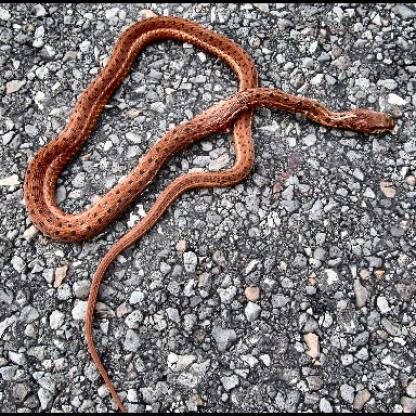Snake: (26, 15, 396, 400)
